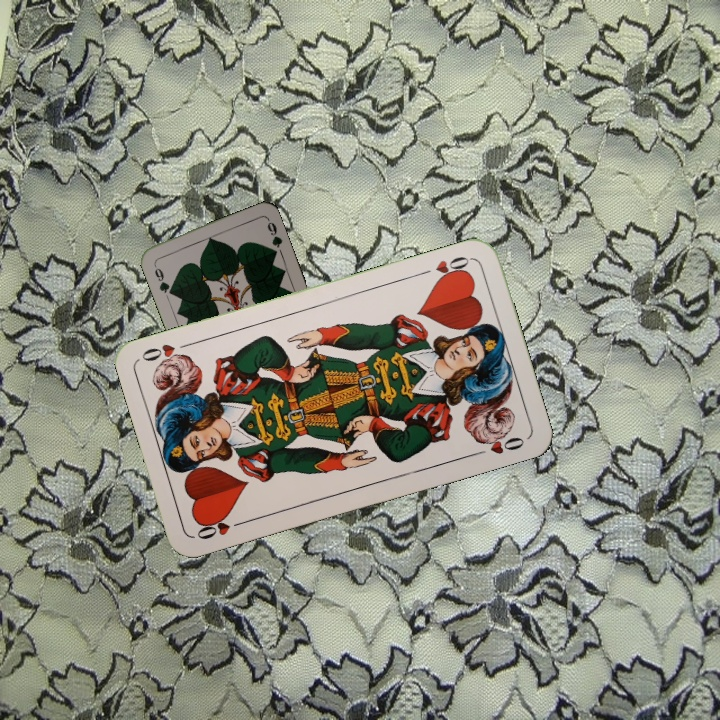G9: (149, 259, 174, 297)
HO: (416, 252, 474, 284), (192, 513, 250, 542)
